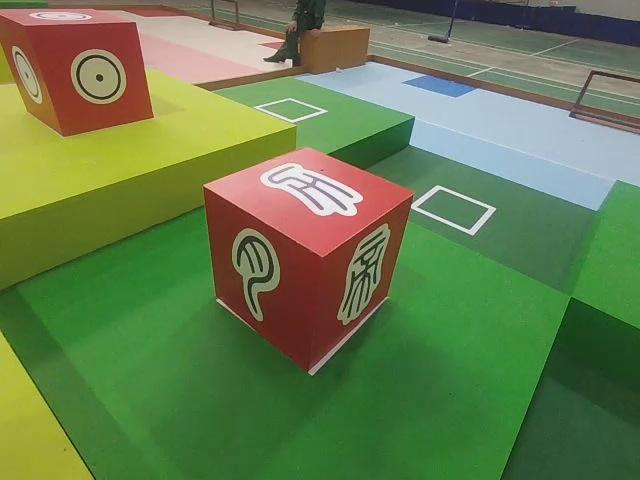R2 Fake: (199, 146, 417, 369)
R2 Real: (2, 8, 156, 137)
